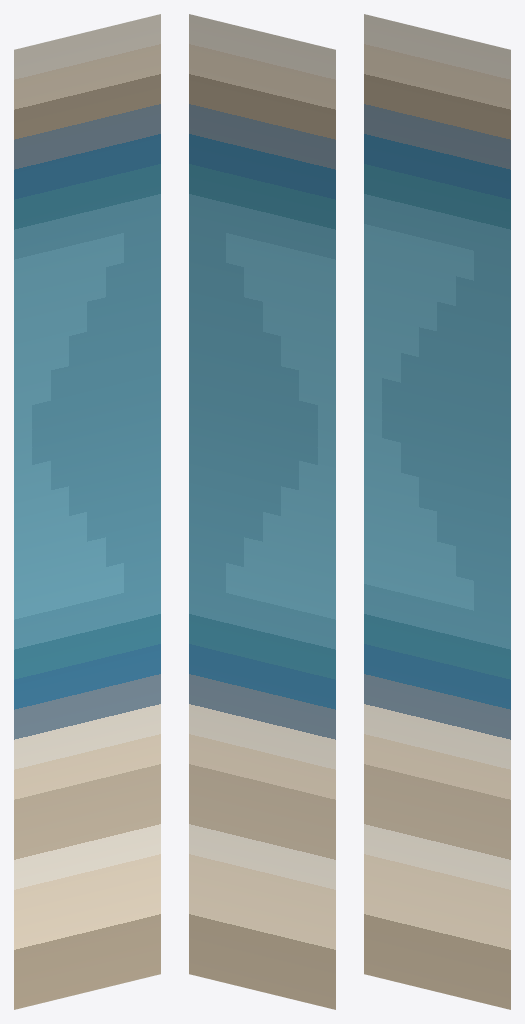
The picture shows the model from 3 angles, left to right: view 1: azimuth 30°, elevation 25°; view 2: azimuth 150°, elevation 25°; view 3: azimuth 330°, elevation 25°; orthographic projection.
Bounding box in the file's own units: 0.5 × 3.12 × 0.
1 material, 1 textured.
